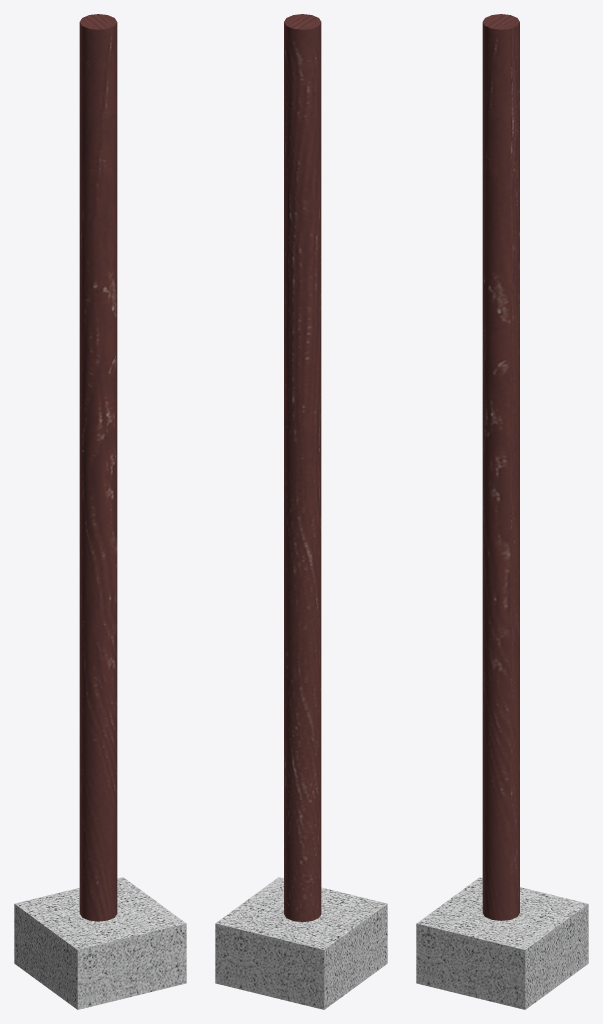
File: SM_Geumsan_Mi_Pillar_D.fbx
The picture shows the model from 3 angles, left to right: view 1: azimuth 30°, elevation 25°; view 2: azimuth 150°, elevation 25°; view 3: azimuth 330°, elevation 25°; orthographic projection.
Parts seen in each view (by area): view 1: SM_Geumsan_Mi_Pillar_D; view 2: SM_Geumsan_Mi_Pillar_D; view 3: SM_Geumsan_Mi_Pillar_D.
Boxes of the visible parts, x1=… form: SM_Geumsan_Mi_Pillar_D: x1=14, y1=14, x2=186, y2=1009; SM_Geumsan_Mi_Pillar_D: x1=215, y1=14, x2=387, y2=1009; SM_Geumsan_Mi_Pillar_D: x1=416, y1=14, x2=588, y2=1009.
Bounding box in the file's own units: 67.08 × 560 × 67.58.
